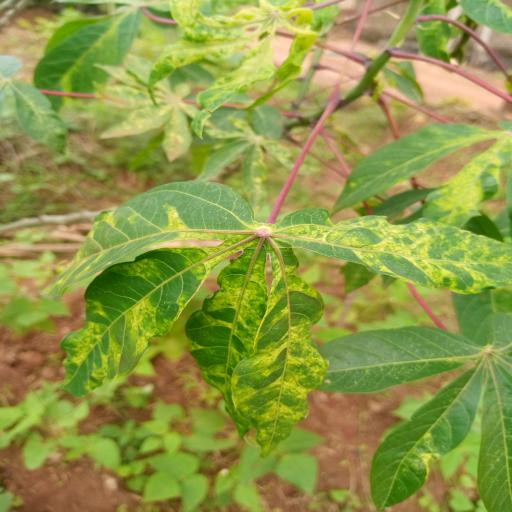Cassava_Mosaic: (46, 175, 512, 440)
